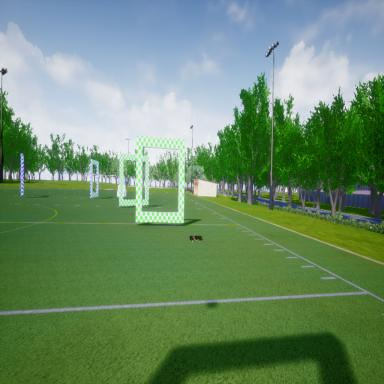gate: (135, 132, 187, 226), (119, 152, 151, 208), (89, 158, 101, 204)
